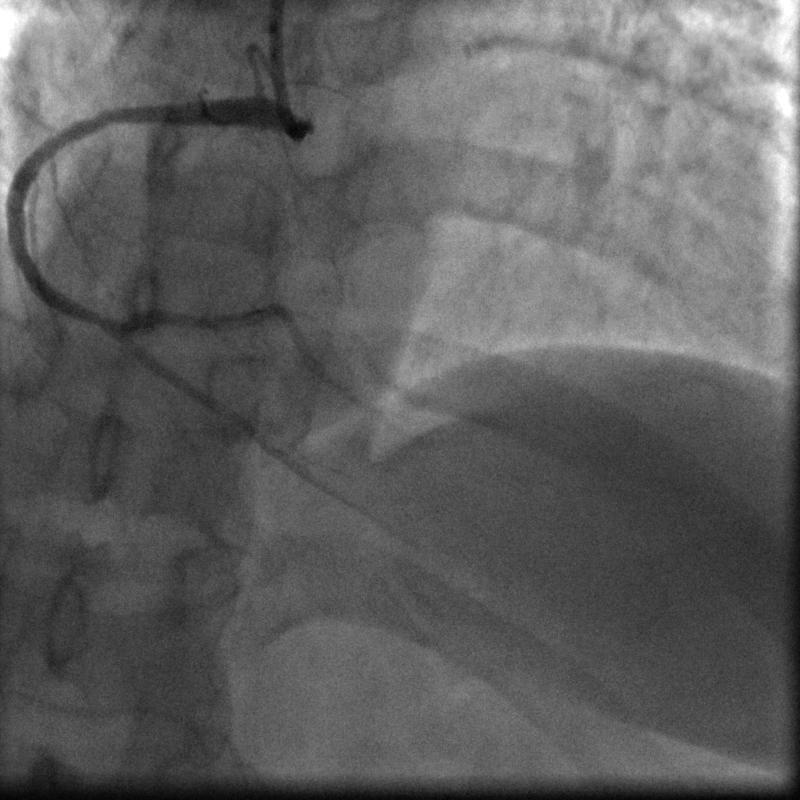Stenosis: (90, 305, 110, 338)
